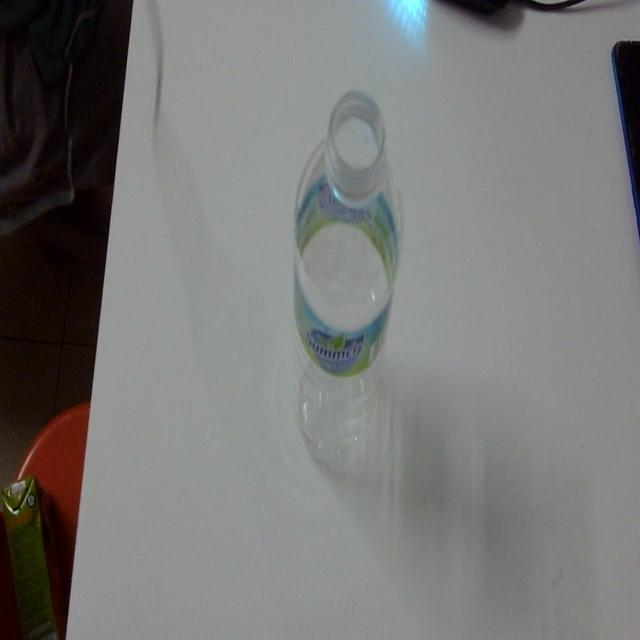plastic_standrotation: (282, 83, 405, 481)
